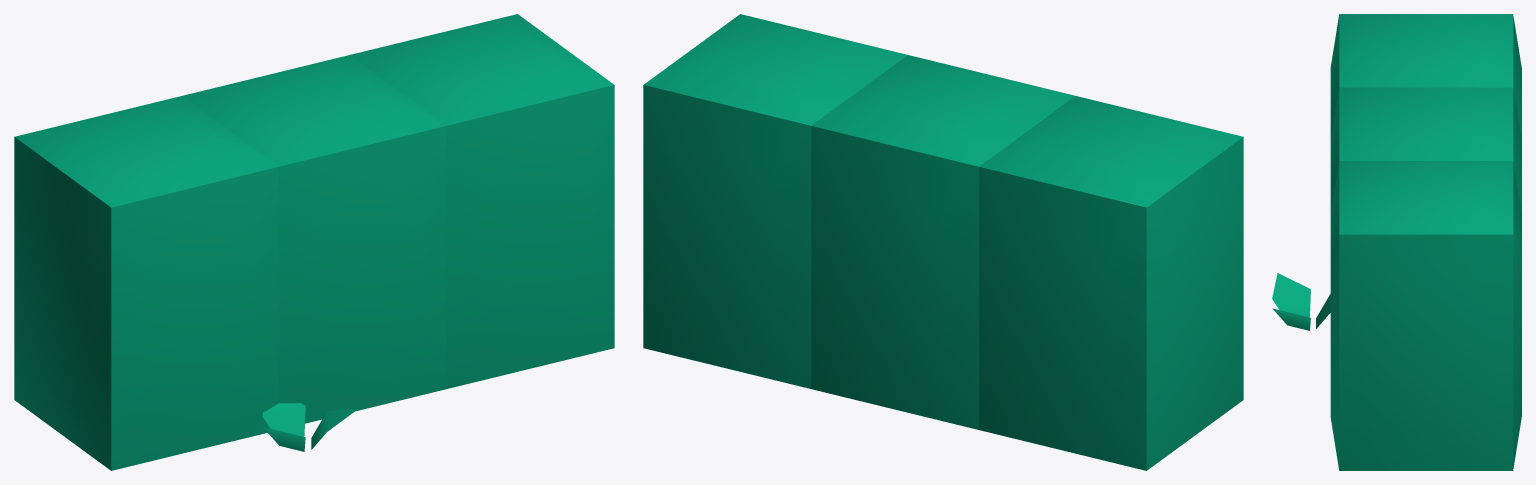
The model's file is bushes1.fbx.
3 views of the same model, side by side, from view 1: azimuth 30°, elevation 25°; view 2: azimuth 150°, elevation 25°; view 3: azimuth 270°, elevation 25° (orthographic). The views are drawn at different scales.
Visible parts, largest first — view 1: leafs_square (×3), plant_small; view 2: leafs_square (×3); view 3: leafs_square (×3), plant_small.
Part boxes in pixels (box(x1,y1,x2,y2)): leafs_square (×3): box(14, 14, 614, 470); plant_small: box(262, 403, 357, 451); leafs_square (×3): box(643, 14, 1243, 470); leafs_square (×3): box(1330, 14, 1521, 470); plant_small: box(1272, 273, 1330, 330).
Size of the model in its own units: 31 by 16.5 by 14.36.
